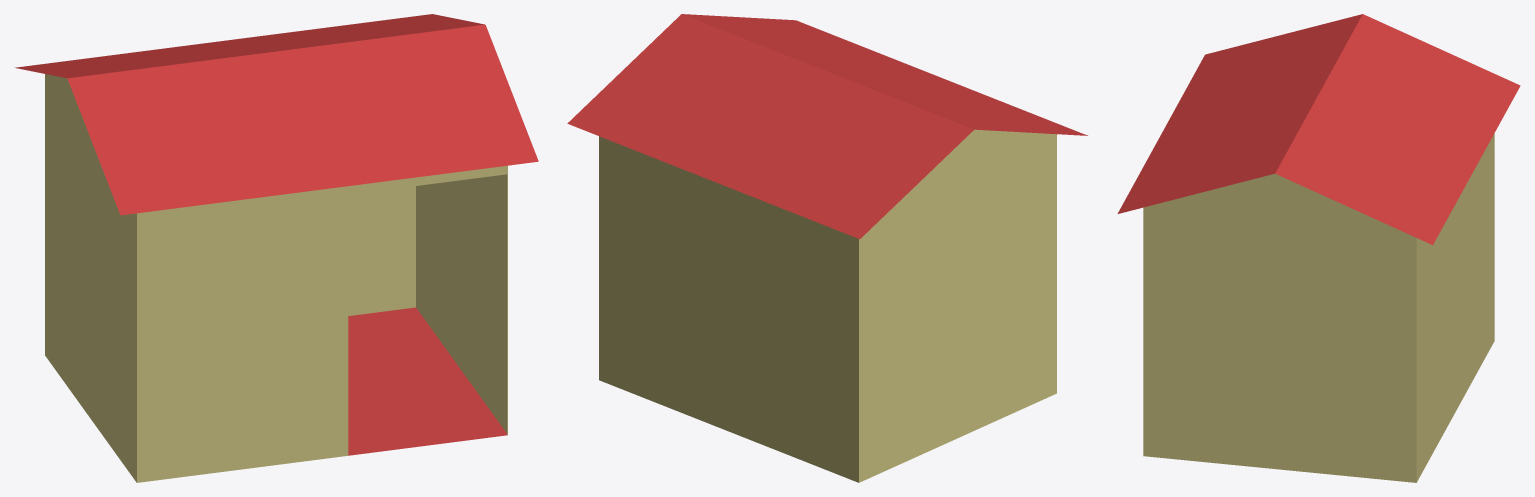
The picture shows the model from 3 angles, left to right: view 1: azimuth 30°, elevation 25°; view 2: azimuth 150°, elevation 25°; view 3: azimuth 270°, elevation 25°; orthographic projection. The views are drawn at different scales.
Parts seen in each view (by area): view 1: group_5, group_3, group_6, group_4; view 2: group_5, group_3, group_4; view 3: group_5, group_3, group_4.
Part boxes in pixels (<box>): group_5: <box>45,74,507,482</box>; group_3: <box>14,14,538,215</box>; group_6: <box>348,307,507,455</box>; group_4: <box>67,14,484,215</box>; group_5: <box>599,129,1056,482</box>; group_3: <box>569,14,1084,238</box>; group_4: <box>567,14,1087,163</box>; group_5: <box>1143,133,1494,482</box>; group_3: <box>1117,14,1520,244</box>; group_4: <box>1179,14,1452,244</box>.
Bounding box in the file's own units: 15.5 × 13.86 × 11.56.
